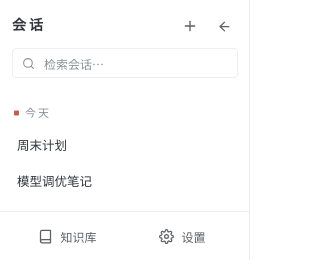
Test: SessionSidebar 会话搜索 › 全文搜索无结果时展示空态
This screenshot has width=320, height=277.
Type "绝对不存在" into the field with class "search-input".
click(135, 63); type("绝对不存在")  # box [42, 54, 228, 72]
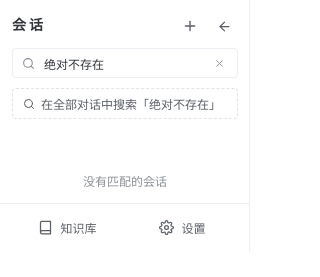
Click the button with class "fulltext-entry".
click(125, 104)  # box [12, 88, 238, 119]
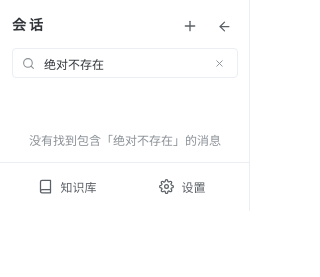
Result: the text with class "empty-hint" reads "没有找到包含「绝对不存在」的消息" at [29, 131, 221, 148]
